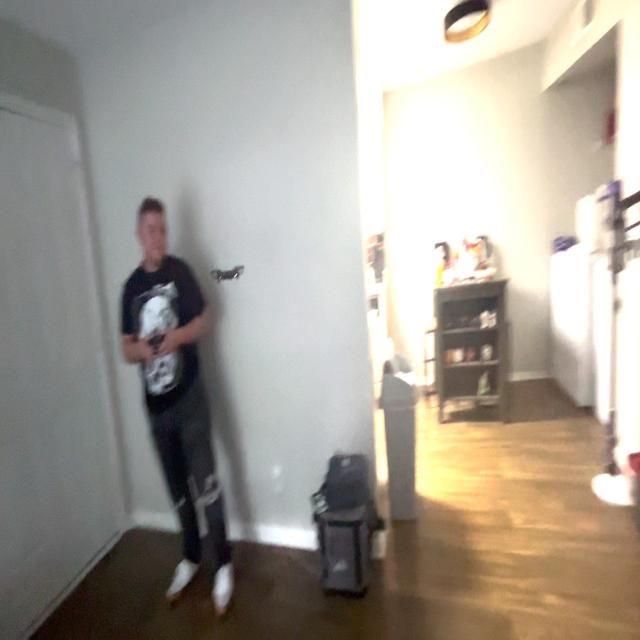drone: (203, 249, 258, 292)
